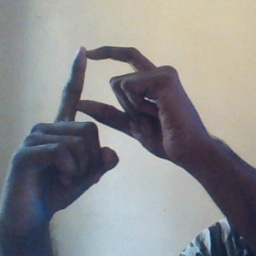D: (42, 38, 169, 165)
